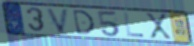3: (25, 7, 46, 34)
5: (96, 10, 122, 38)
D: (71, 9, 96, 35)
L: (123, 12, 146, 38)
V: (45, 7, 71, 35)
X: (144, 12, 173, 40)
